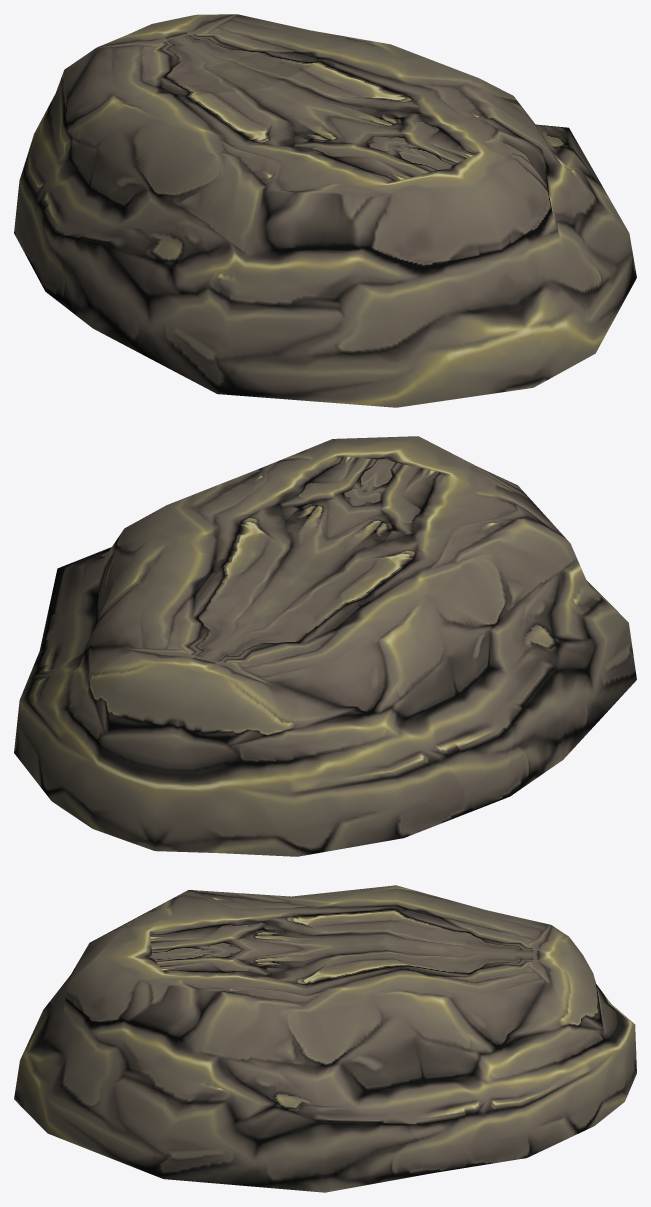
File: Prop_Cliff_02.FBX
3 renders of one model, top to bottom at view 1: azimuth 30°, elevation 25°; view 2: azimuth 150°, elevation 25°; view 3: azimuth 270°, elevation 25°, orthographic. The views are drawn at different scales.
Parts seen in each view (by area): view 1: Prop_Cliff_02; view 2: Prop_Cliff_02; view 3: Prop_Cliff_02.
Part boxes in pixels (x1,y1,x2,y2): Prop_Cliff_02: (14,14,636,407); Prop_Cliff_02: (14,436,636,856); Prop_Cliff_02: (14,885,636,1192).
Size of the model in its own units: 3.13 by 0.9865 by 3.98.
